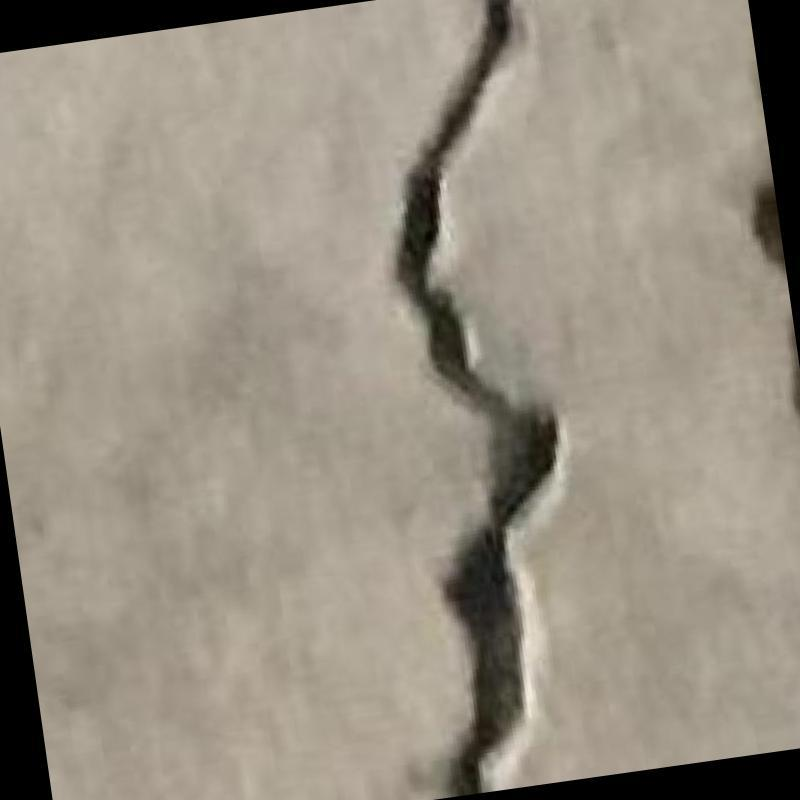pothole: (394, 0, 567, 796)
